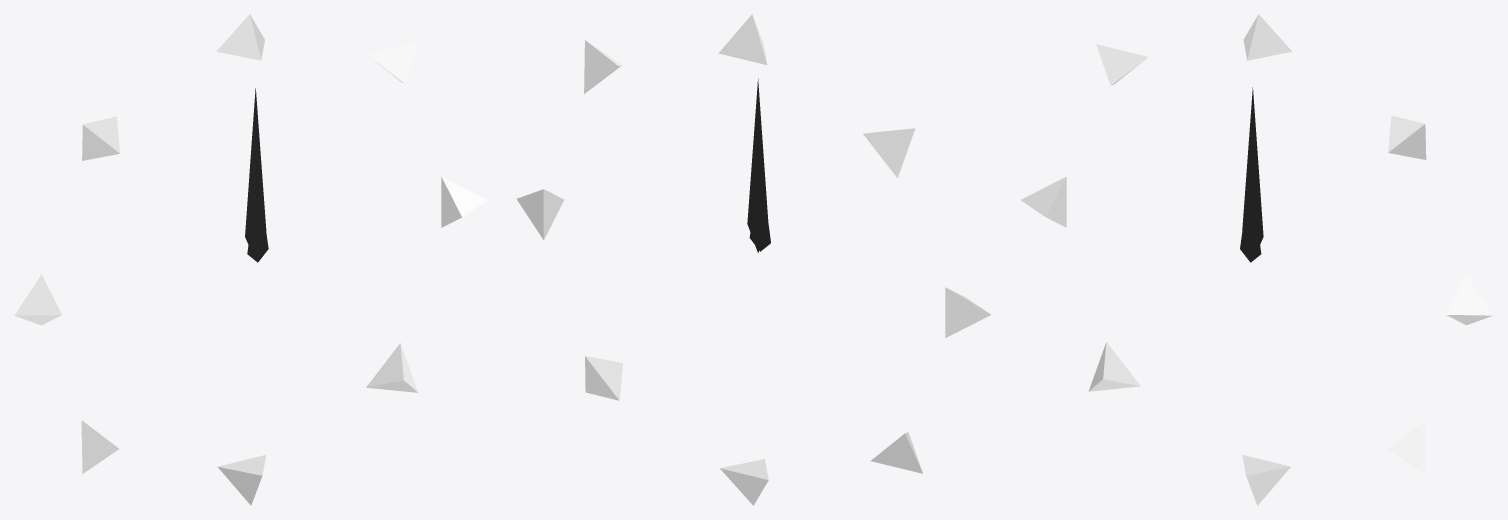
Rendered from uvmd-0235.glb.
The picture shows the model from 3 angles, left to right: view 1: azimuth 30°, elevation 25°; view 2: azimuth 150°, elevation 25°; view 3: azimuth 330°, elevation 25°; orthographic projection.
Visible parts, largest first — view 1: uvmd-0235; view 2: uvmd-0235; view 3: uvmd-0235.
Boxes of the visible parts, box(x1,y1,x2,y2) form: uvmd-0235: box(14, 14, 487, 505); uvmd-0235: box(517, 14, 991, 505); uvmd-0235: box(1020, 14, 1493, 505).
Size of the model in its own units: 3092 by 3065 by 273.
1 material, 1 textured.
